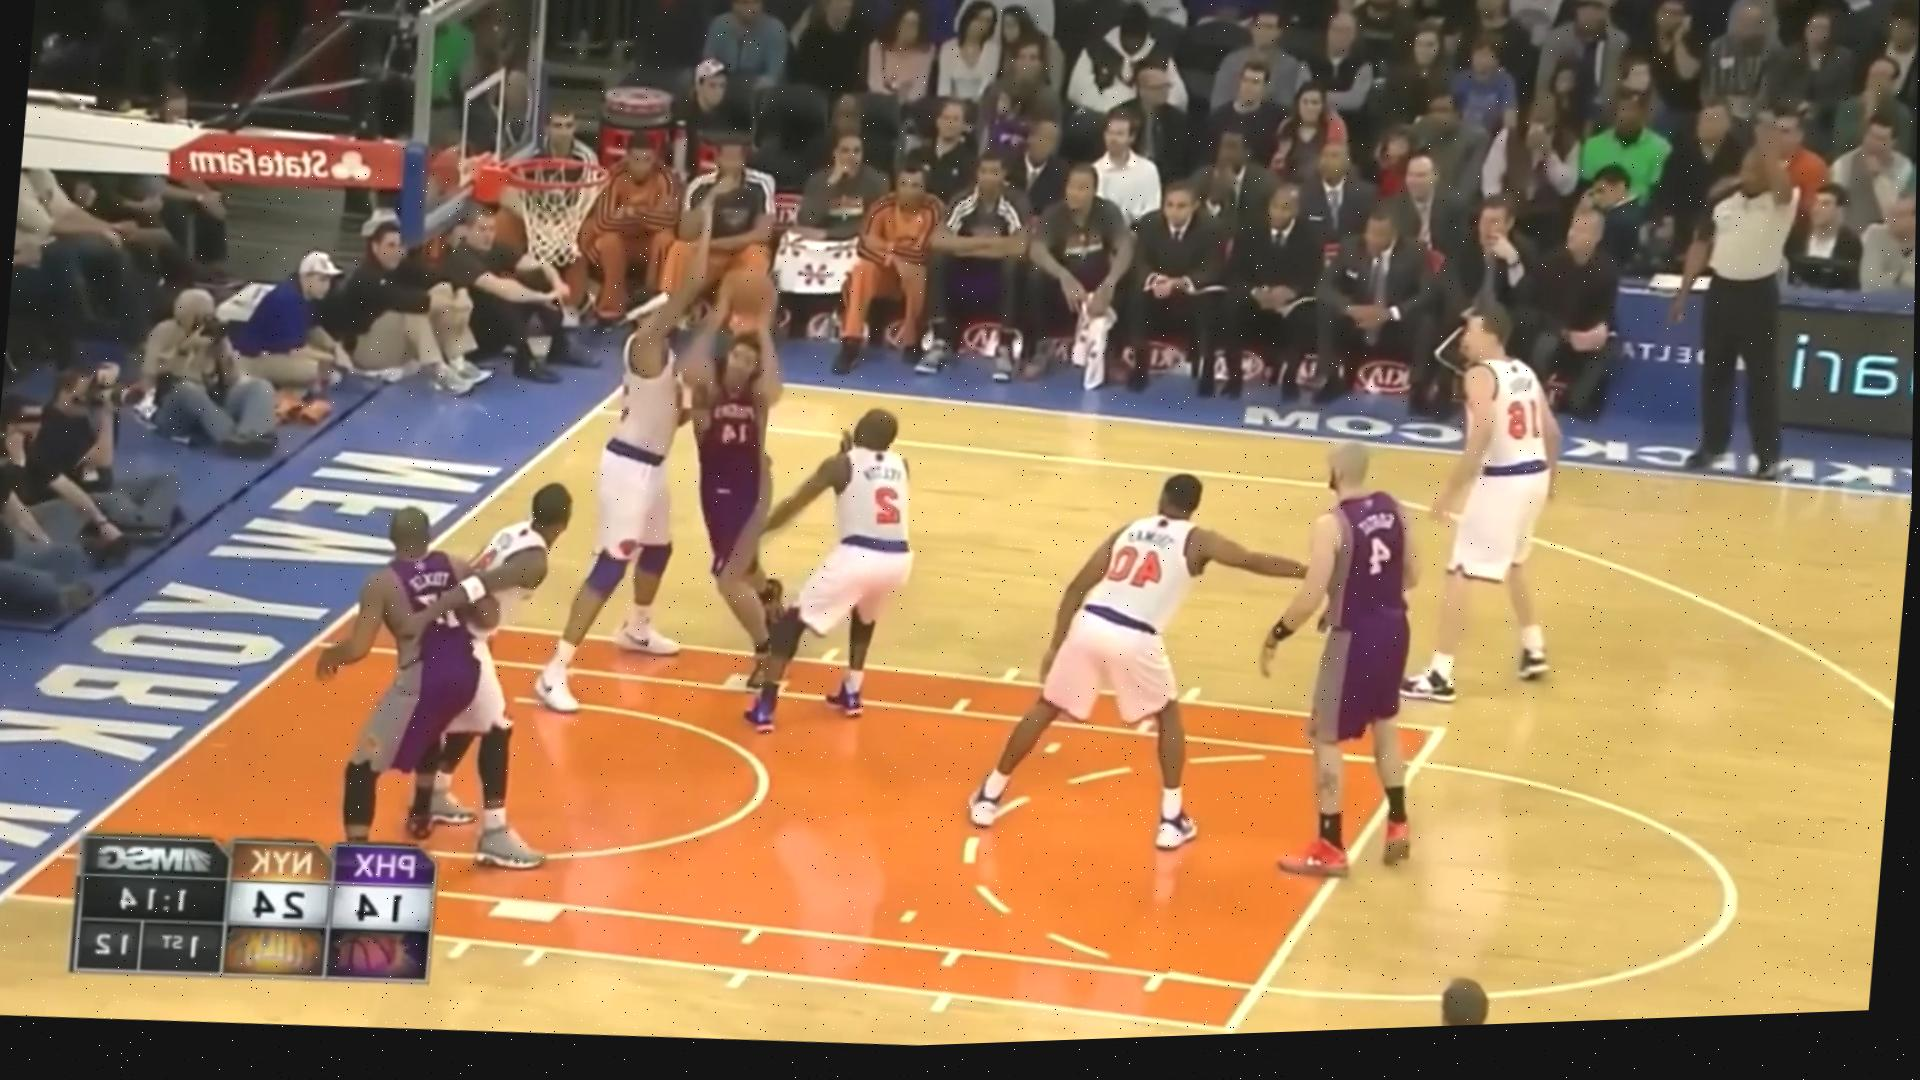no_foul: (558, 244, 847, 773)
